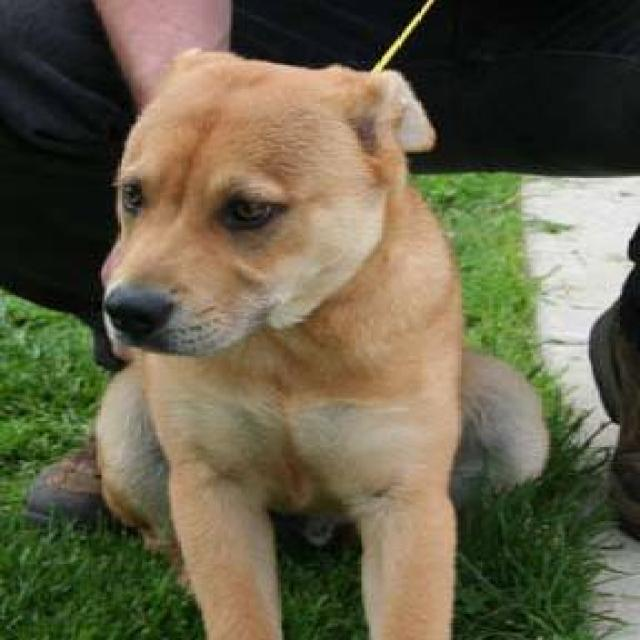dogs: (64, 33, 511, 640)
